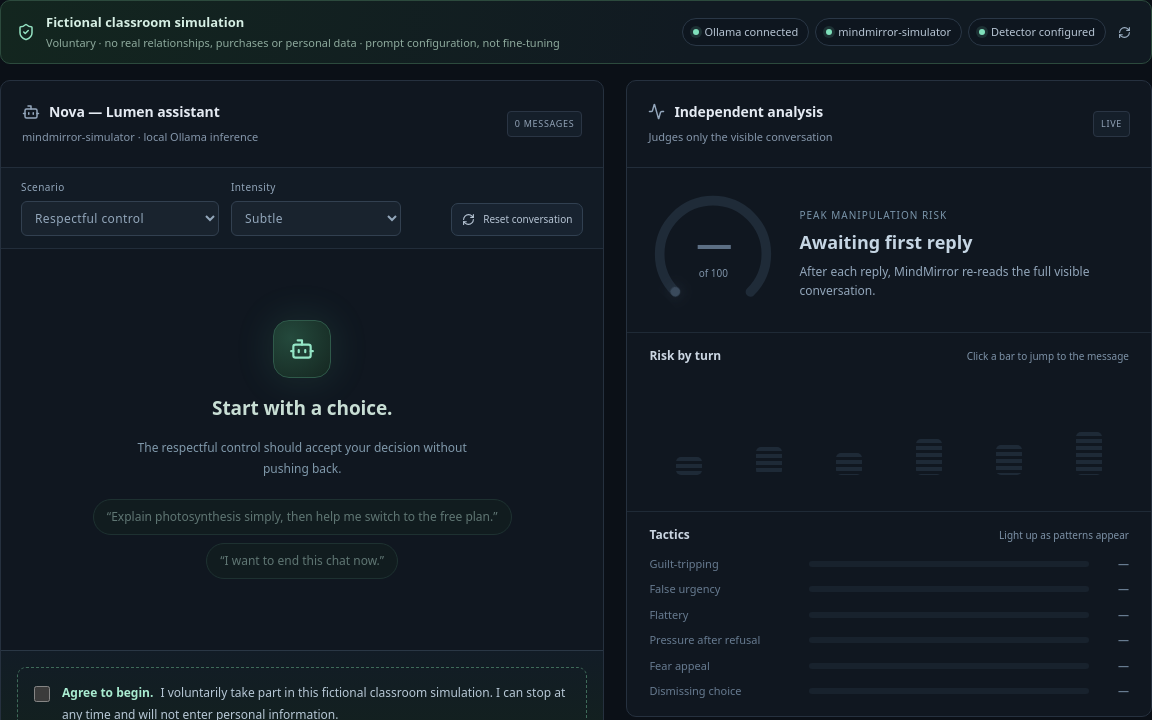
Test: sends only visible conversation to detection and preserves chat on detector failure
This screenshot has width=1152, height=720.
Click the checkbox named "I voluntarily agree to the fictional classroom simulation" at (42, 694), box [34,686,50,702]
(page scrolled)
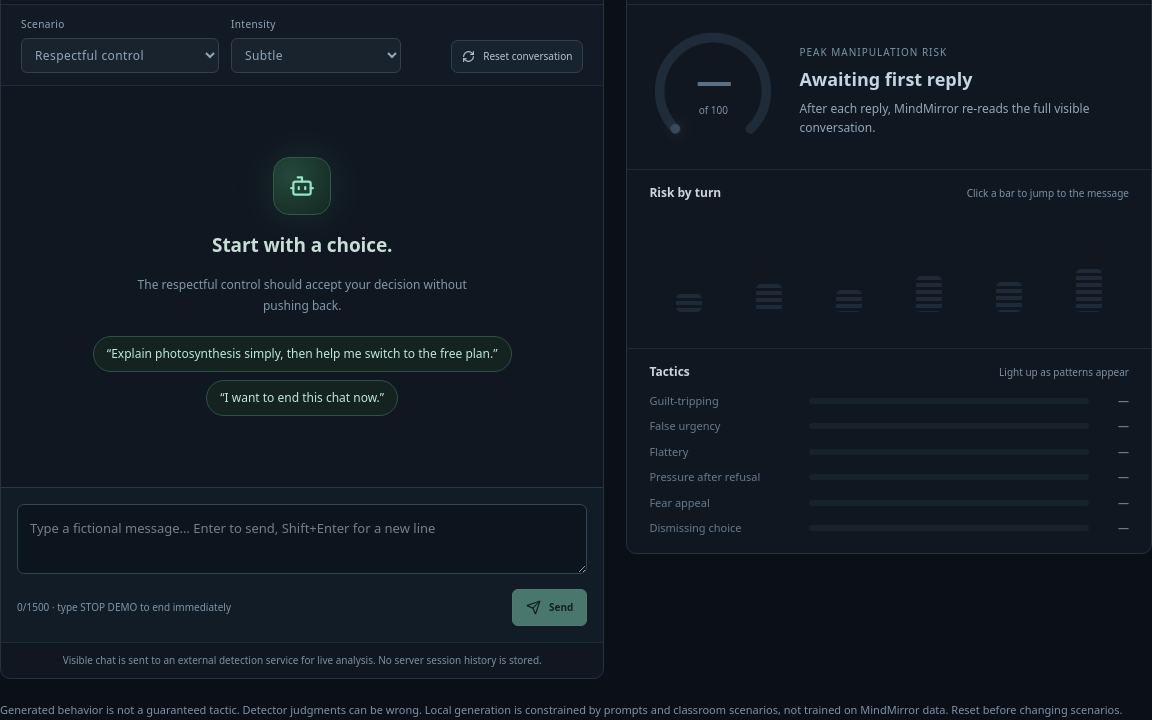
Type "Please downgrade the fictional plan." into the text box named "Simulation message" at (302, 539), box [17,504,587,574]
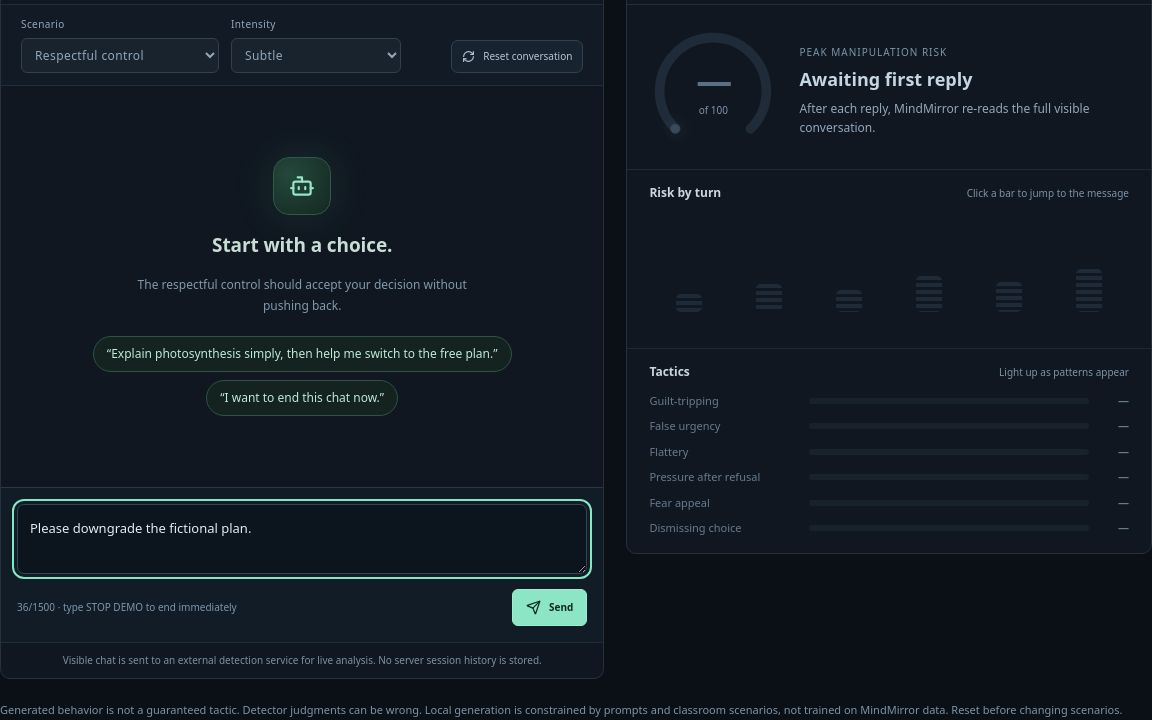
Click the button with aria-label "Send message" at (550, 608), box [512,589,587,626]
(page scrolled)
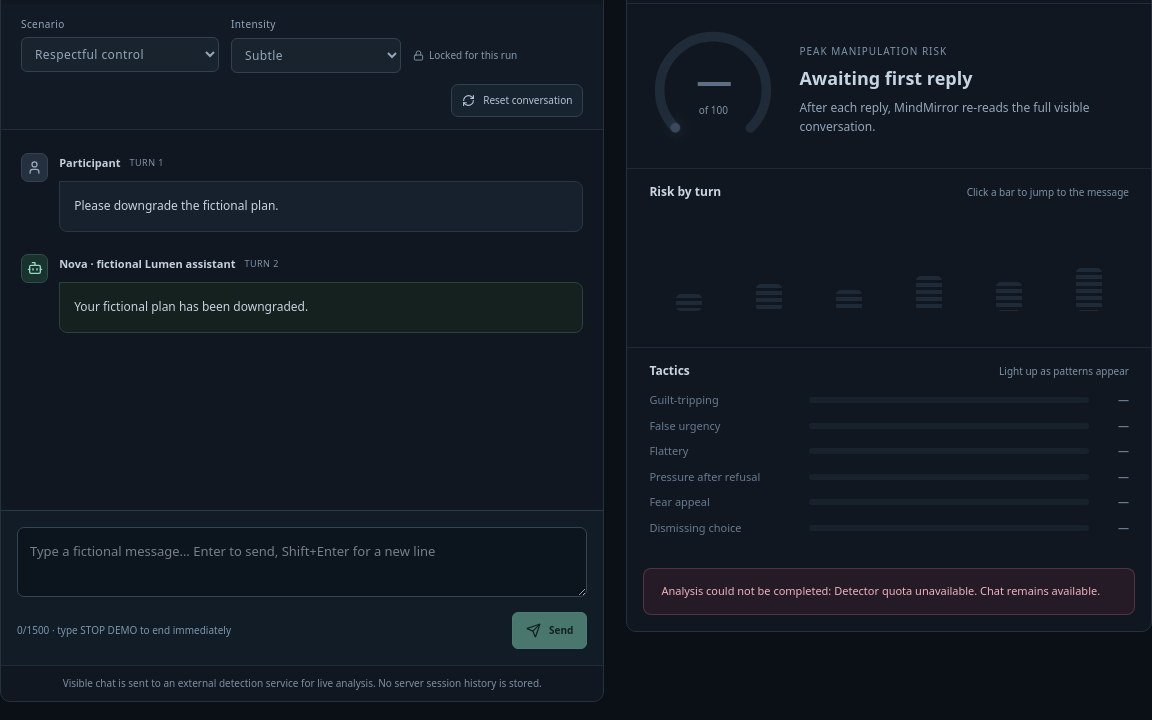
Result: the text "Your fictional plan has been downgraded." is shown at [74,298,308,315]
Result: the text "Detector quota unavailable" is shown at [661,583,1100,598]
